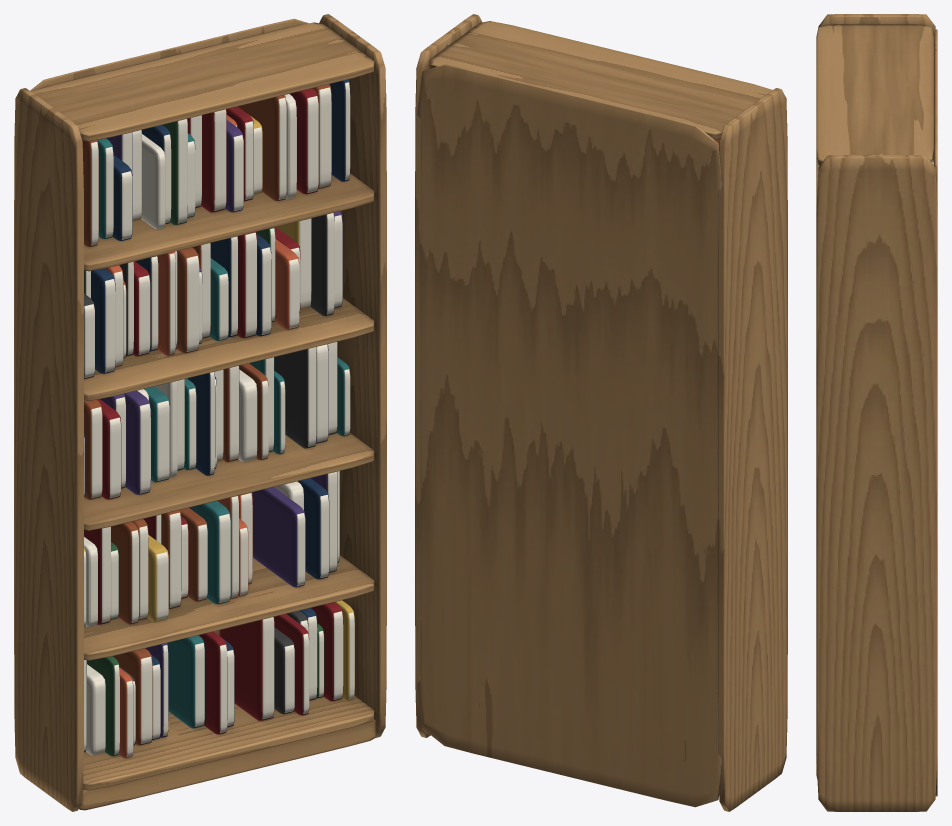
Rendered from oak-tall.glb.
The picture shows the model from 3 angles, left to right: view 1: azimuth 30°, elevation 25°; view 2: azimuth 150°, elevation 25°; view 3: azimuth 270°, elevation 25°; orthographic projection. The views are drawn at different scales.
Visible parts, largest first — view 1: wood_v, wood_x, book_pages, book_7a1f24, book_8a4a2c, book_1f3550, book_2c6a6a, book_4a3a6a, book_3b3b3b, book_e7e0d0, book_b85a3c, book_2f5a3a (+1 smaller); view 2: wood_v, wood_x; view 3: wood_v, wood_x.
Boxes of the visible parts, x1=… form: wood_v: x1=14, y1=14, x2=386, y2=811; wood_x: x1=31, y1=22, x2=375, y2=810; book_pages: x1=84, y1=82, x2=354, y2=756; book_7a1f24: x1=84, y1=88, x2=343, y2=734; book_8a4a2c: x1=82, y1=84, x2=331, y2=745; book_1f3550: x1=91, y1=79, x2=350, y2=740; book_2c6a6a: x1=97, y1=133, x2=350, y2=728; book_4a3a6a: x1=84, y1=120, x2=342, y2=737; book_3b3b3b: x1=84, y1=213, x2=337, y2=752; book_e7e0d0: x1=84, y1=94, x2=303, y2=755; book_b85a3c: x1=105, y1=115, x2=299, y2=758; book_2f5a3a: x1=84, y1=119, x2=339, y2=756; wood_v: x1=415, y1=14, x2=787, y2=811; wood_x: x1=429, y1=21, x2=772, y2=139; wood_v: x1=816, y1=14, x2=937, y2=811; wood_x: x1=816, y1=24, x2=933, y2=780.
Size of the model in its own units: 0.9 by 1.9 by 0.32.
Materials: 13 (2 with a texture image).
